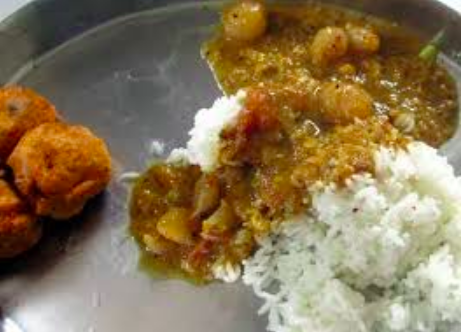curry: (195, 8, 461, 145), (133, 163, 245, 268)
rice: (259, 143, 461, 332)
